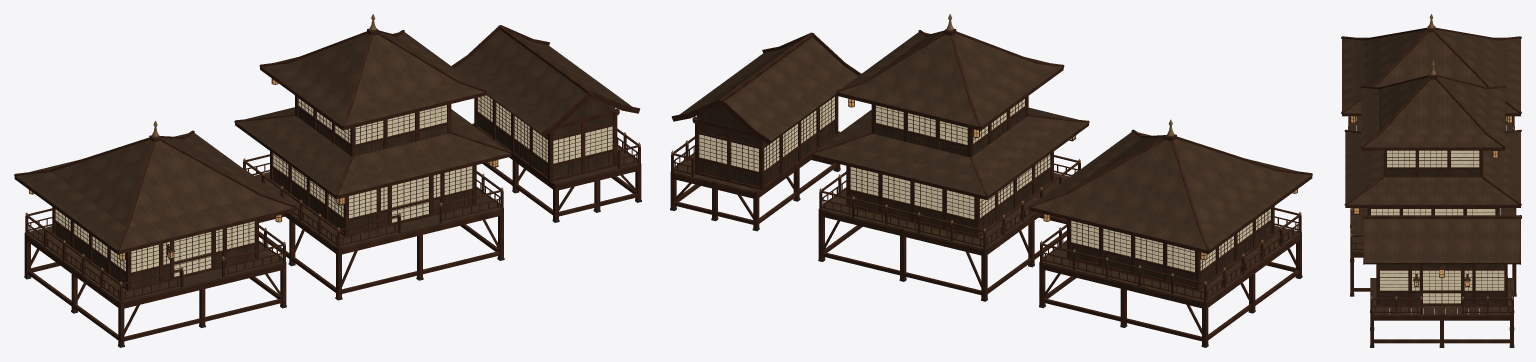
File: exterior_room_blocks.glb
The picture shows the model from 3 angles, left to right: view 1: azimuth 30°, elevation 25°; view 2: azimuth 150°, elevation 25°; view 3: azimuth 270°, elevation 25°; orthographic projection. The views are drawn at different scales.
Visible parts, largest first — view 1: IC11_RoomBlock_B_TwoStory__Mesh, IC11_RoomBlock_A__Mesh, IC11_RoomBlock_C_Gabled__Mesh; view 2: IC11_RoomBlock_B_TwoStory__Mesh, IC11_RoomBlock_A__Mesh, IC11_RoomBlock_C_Gabled__Mesh; view 3: IC11_RoomBlock_B_TwoStory__Mesh, IC11_RoomBlock_C_Gabled__Mesh, IC11_RoomBlock_A__Mesh.
Boxes of the visible parts, bbox=[...] form: IC11_RoomBlock_B_TwoStory__Mesh: bbox=[234, 14, 511, 300]; IC11_RoomBlock_A__Mesh: bbox=[14, 120, 296, 347]; IC11_RoomBlock_C_Gabled__Mesh: bbox=[451, 25, 641, 222]; IC11_RoomBlock_B_TwoStory__Mesh: bbox=[810, 14, 1089, 301]; IC11_RoomBlock_A__Mesh: bbox=[1029, 119, 1312, 347]; IC11_RoomBlock_C_Gabled__Mesh: bbox=[670, 32, 861, 231]; IC11_RoomBlock_B_TwoStory__Mesh: bbox=[1344, 61, 1521, 296]; IC11_RoomBlock_C_Gabled__Mesh: bbox=[1362, 215, 1521, 347]; IC11_RoomBlock_A__Mesh: bbox=[1341, 14, 1521, 130].
Size of the model in its own units: 33.93 by 13.84 by 11.32.
6 materials, 4 textured.
